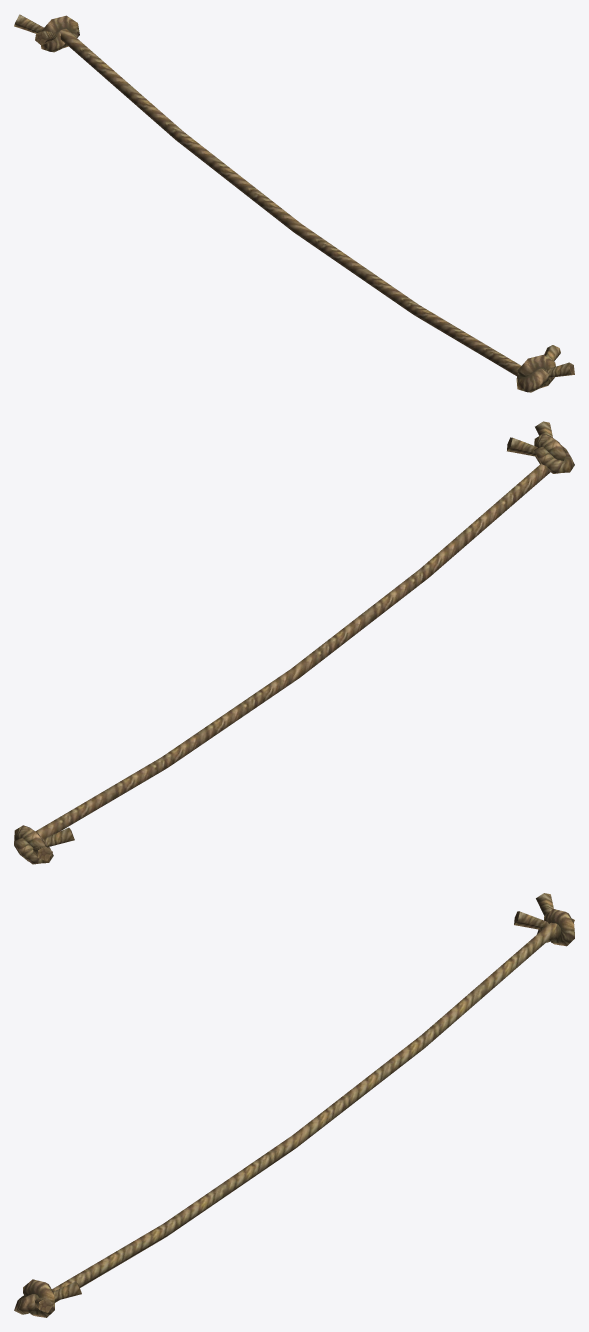
3 renders of one model, top to bottom at view 1: azimuth 30°, elevation 25°; view 2: azimuth 150°, elevation 25°; view 3: azimuth 330°, elevation 25°, orthographic. The views are drawn at different scales.
Bounding box in the file's own units: 0.703 × 0.5437 × 9.58.
1 material, 1 textured.
